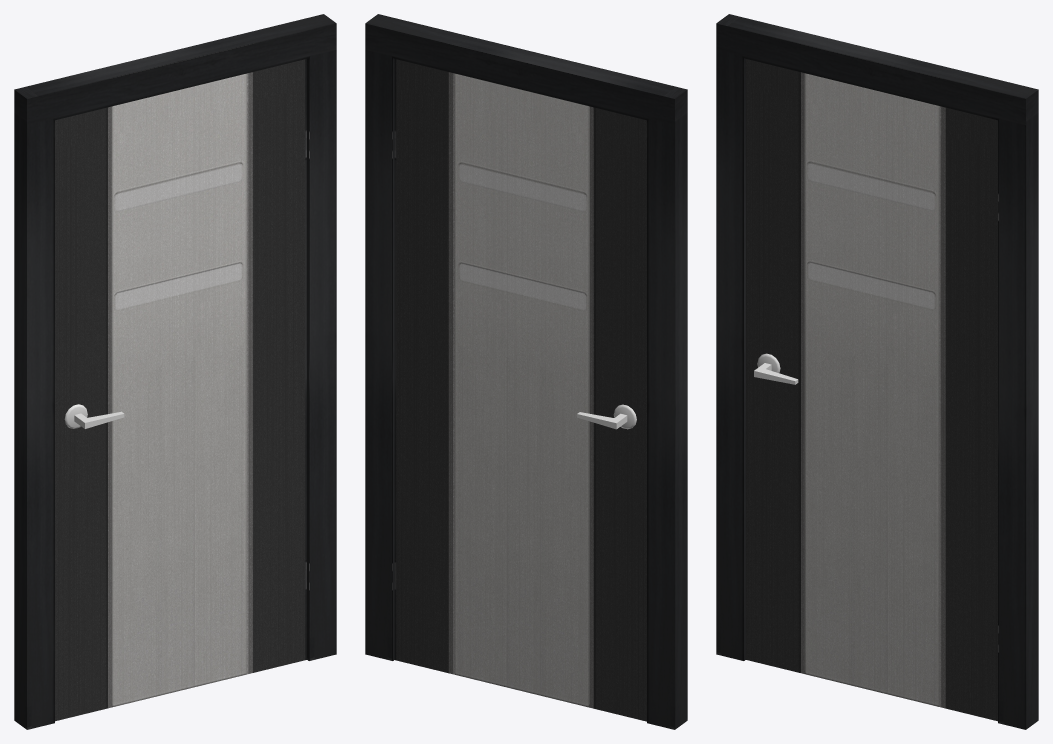
Rendered from Door_T02.FBX.
3 renders of one model, left to right at view 1: azimuth 30°, elevation 25°; view 2: azimuth 150°, elevation 25°; view 3: azimuth 330°, elevation 25°, orthographic.
Parts seen in each view (by area): view 1: Door_T02, Door_T02a; view 2: Door_T02, Door_T02a; view 3: Door_T02, Door_T02a.
Boxes of the visible parts, <box> form: Door_T02: <box>55,59,306,721</box>; Door_T02a: <box>14,14,336,729</box>; Door_T02: <box>394,59,646,721</box>; Door_T02a: <box>365,14,687,729</box>; Door_T02: <box>746,59,997,721</box>; Door_T02a: <box>716,14,1038,729</box>.
Size of the model in its own units: 53.51 by 104 by 9.98.
